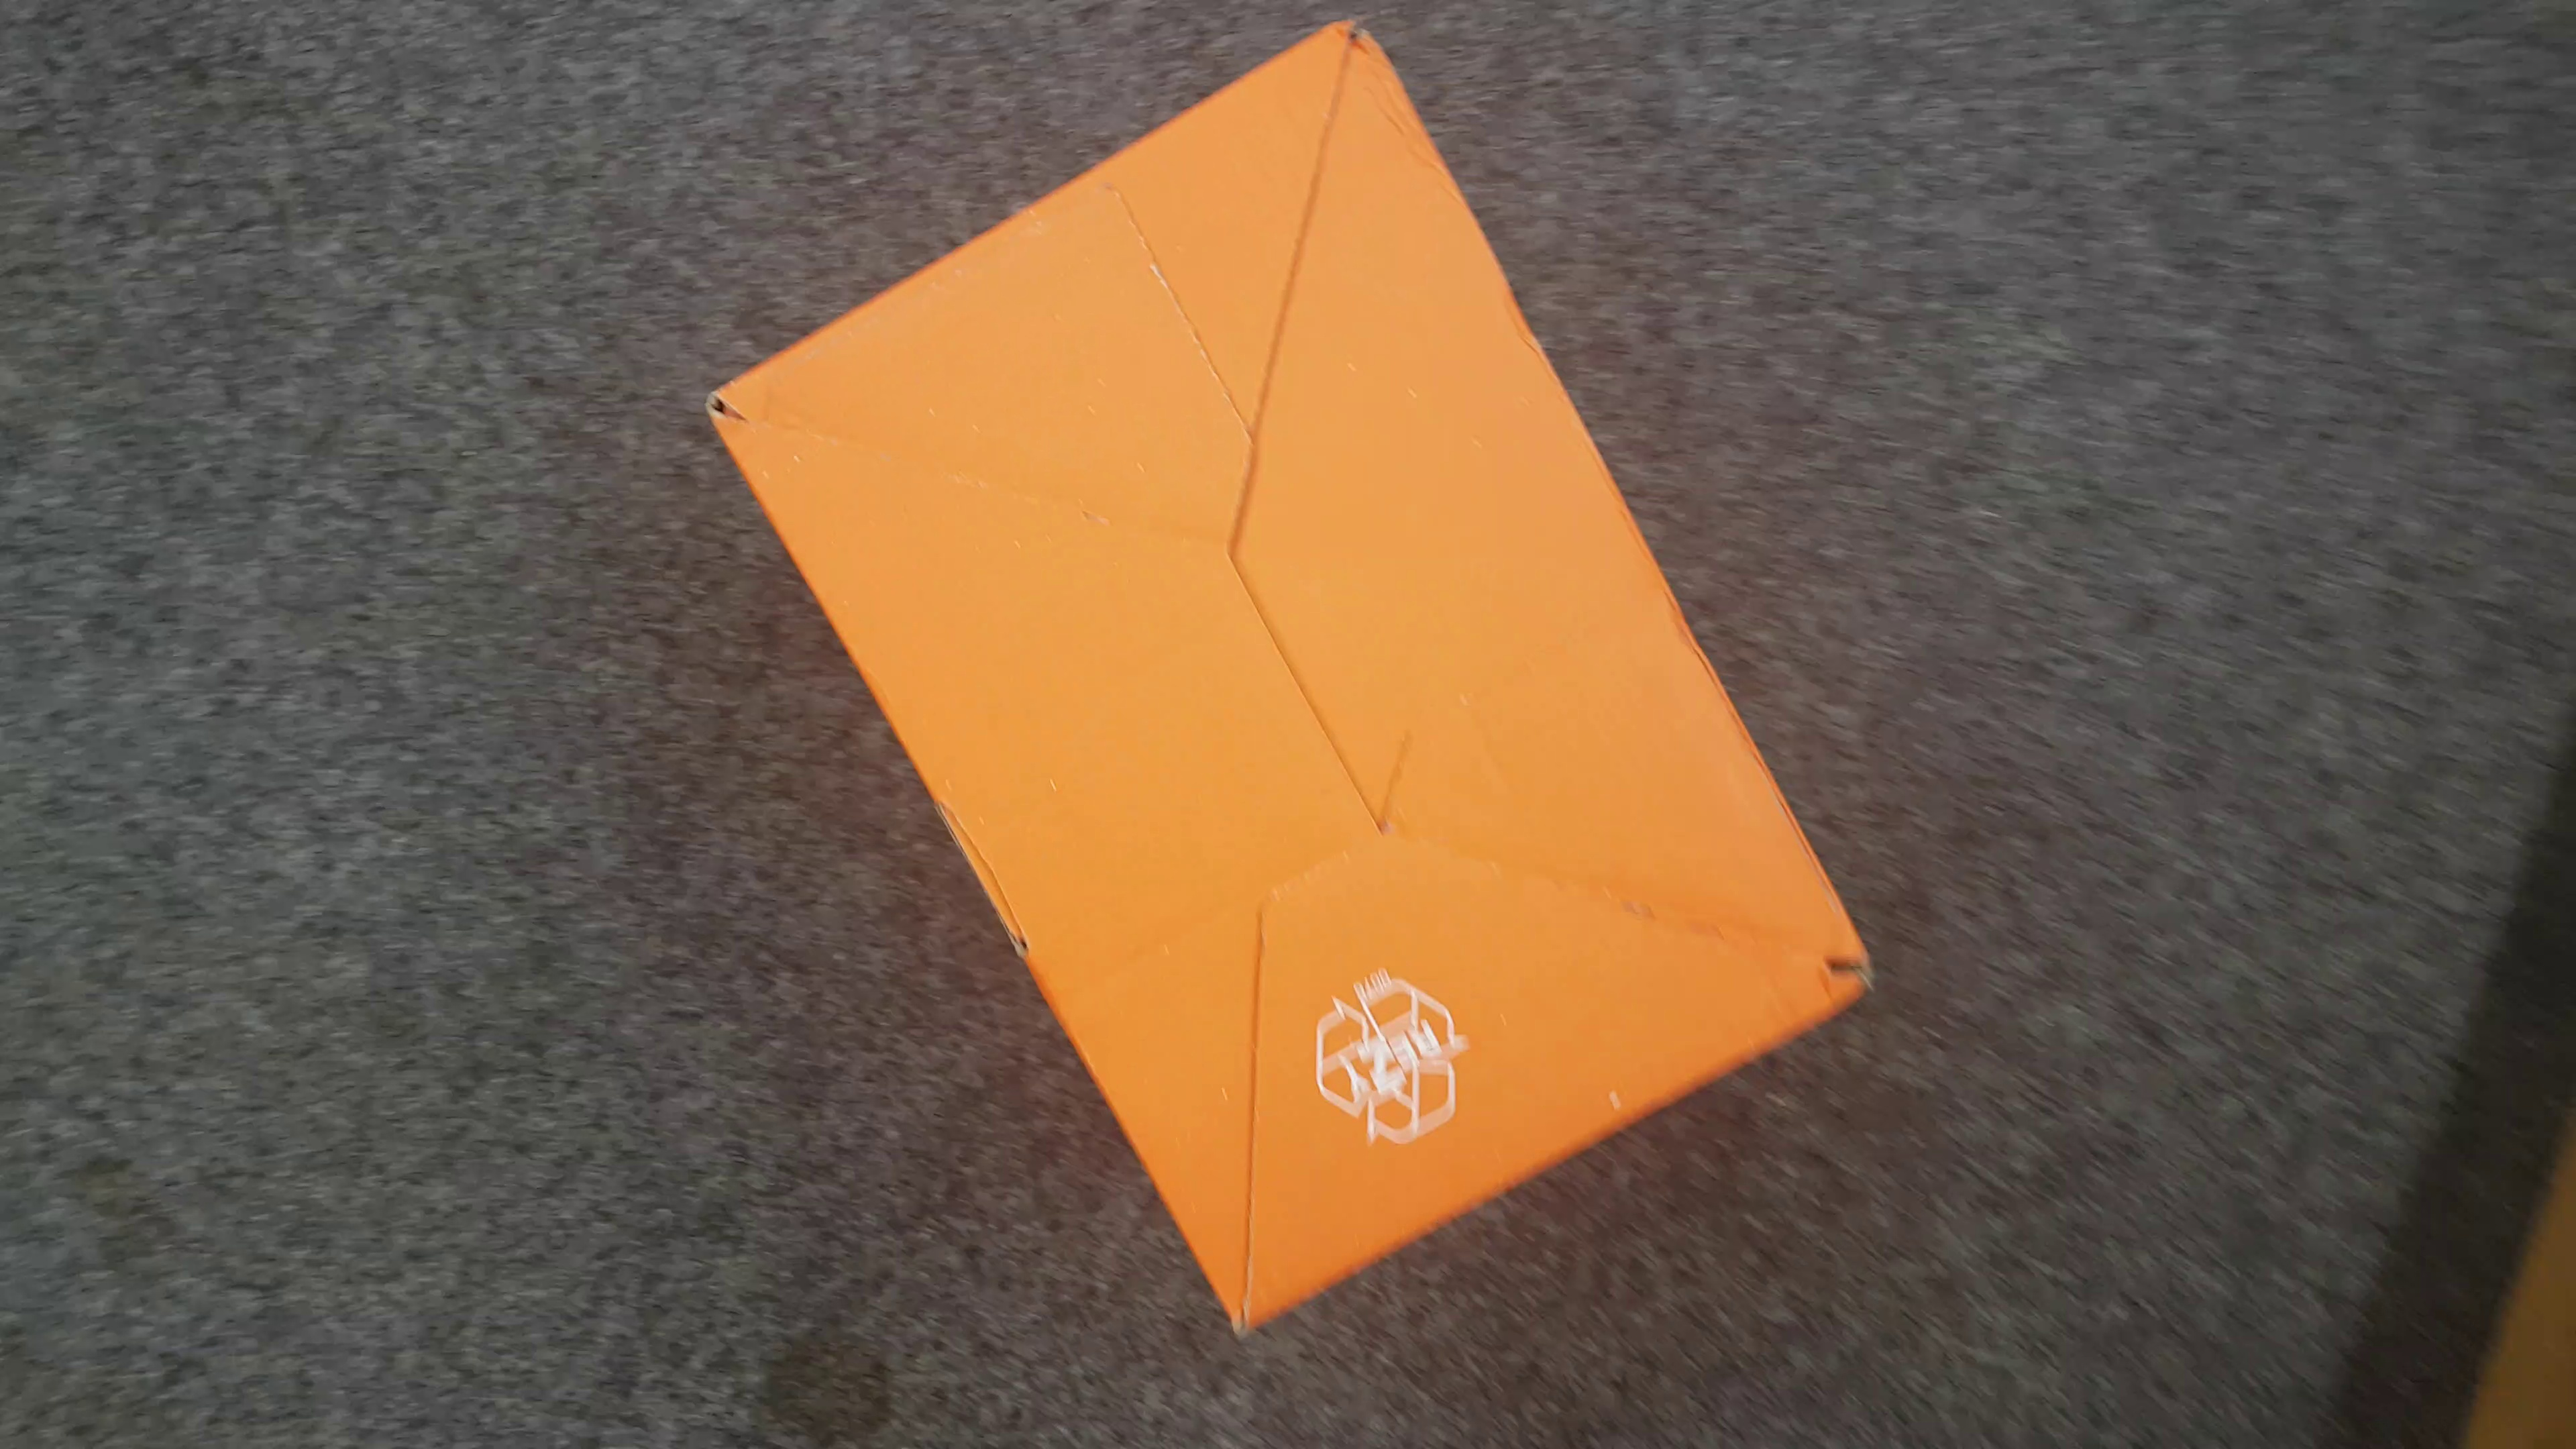push: (711, 25, 1879, 1334)
